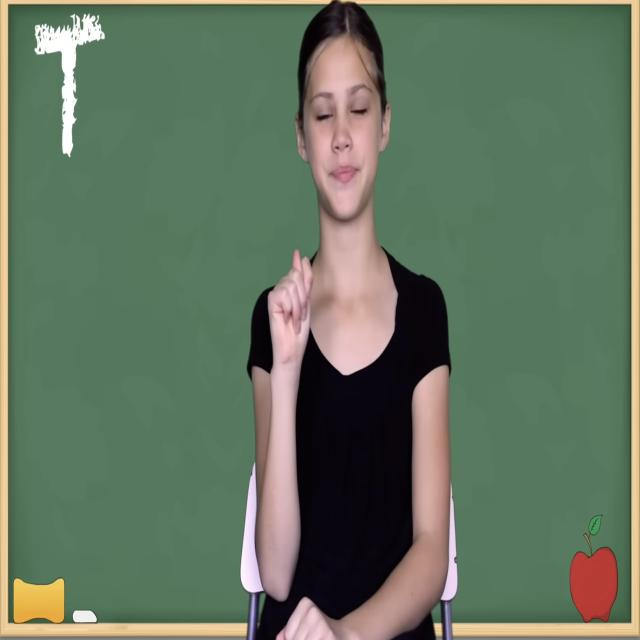T: (256, 234, 325, 402)
